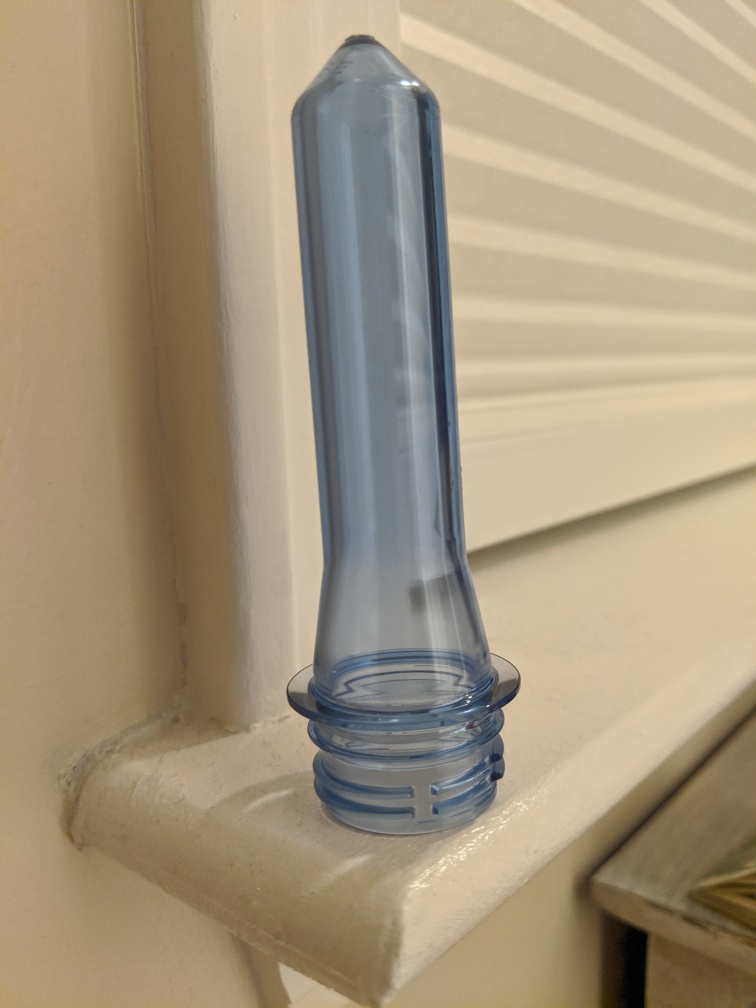preform: (272, 17, 532, 847)
